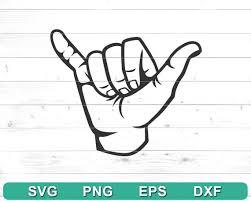subscribe-to-tem: (51, 30, 202, 158)
